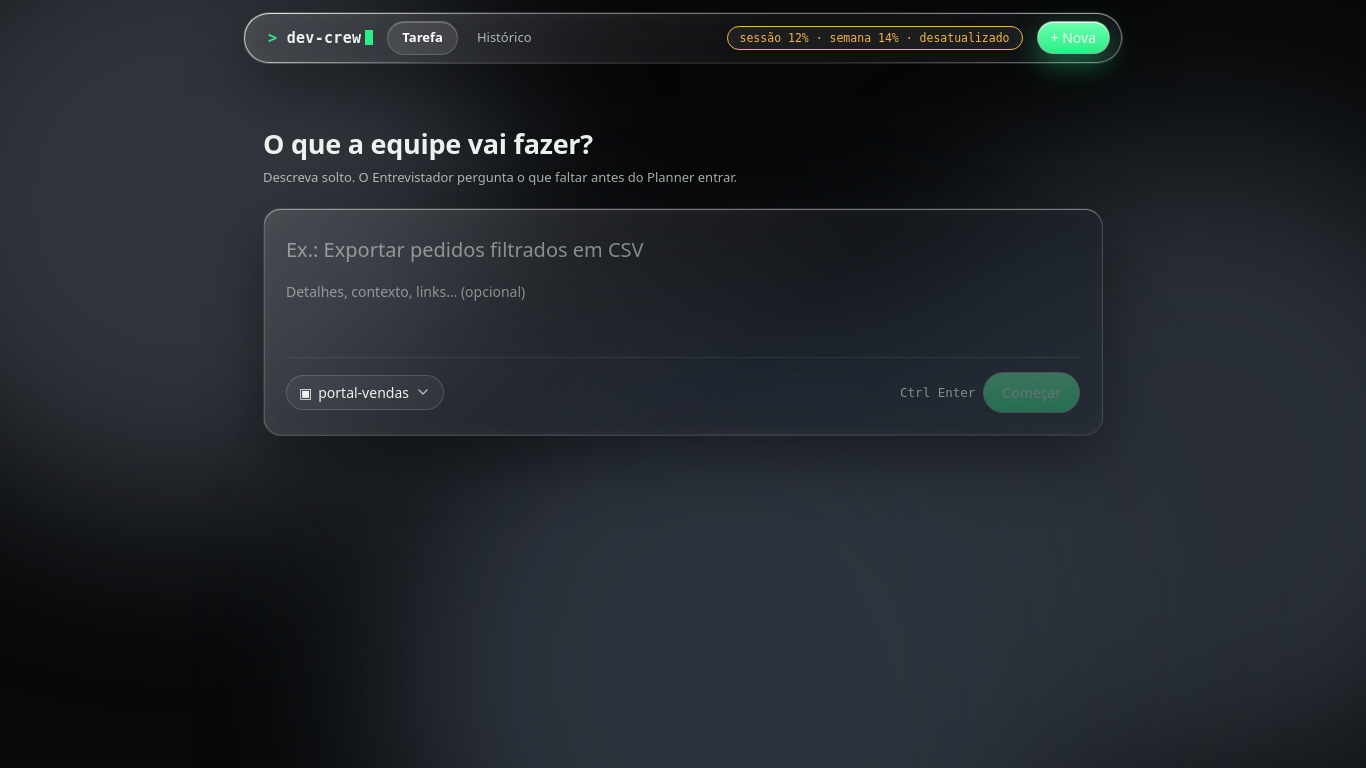
Test: App (UI + cenário mock, sem WS) › a aba "Histórico" lista as tarefas do gateway e "+ Nova" volta à nova tarefa
Click the tab "Histórico" at (504, 38), box [462,21,546,54]
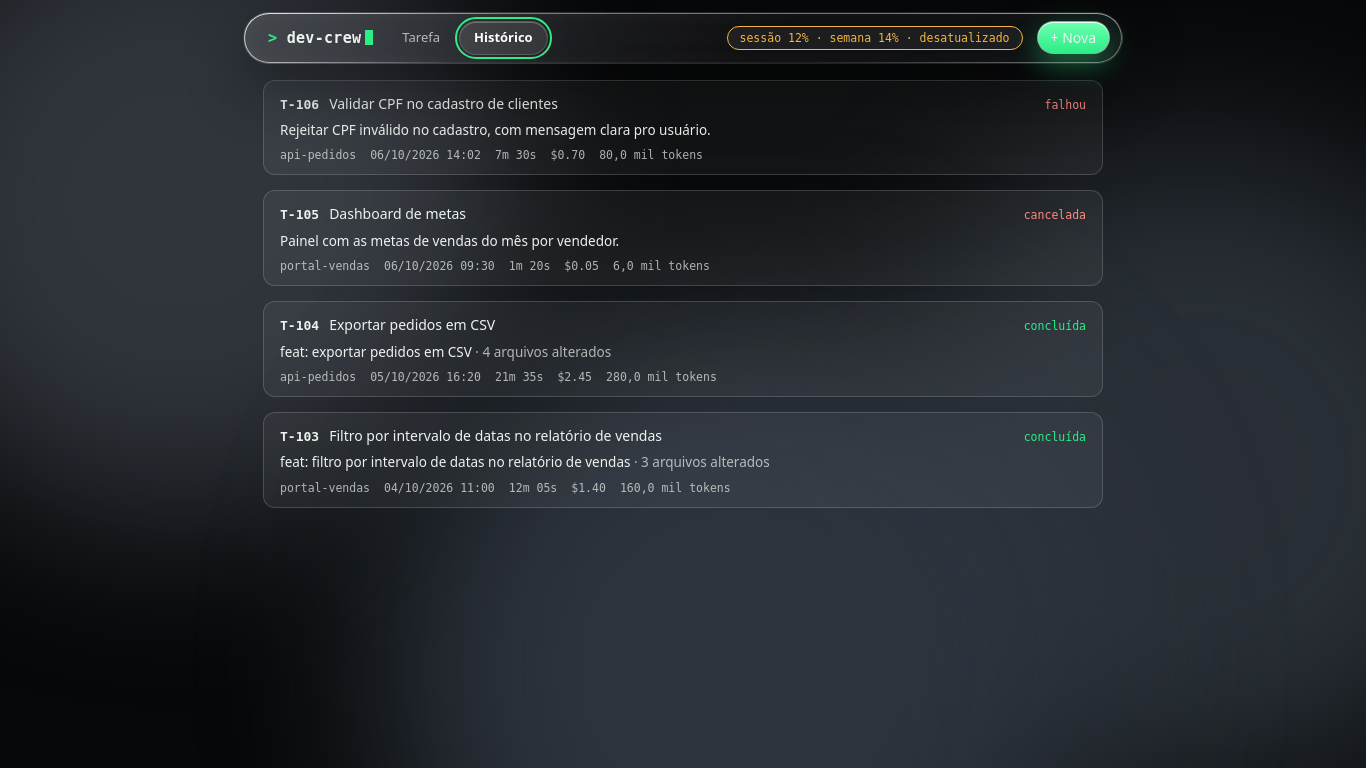
Expected: the number of list items is 4, [263,80,1103,175]; [263,190,1103,286]; [263,301,1103,397]; [263,412,1103,508]
Expected: the text "T-104" is shown, [280,316,319,336]
Expected: the field labelled "título" is gone
Click the button "+ Nova" at (1073, 38), box [1036,21,1110,54]
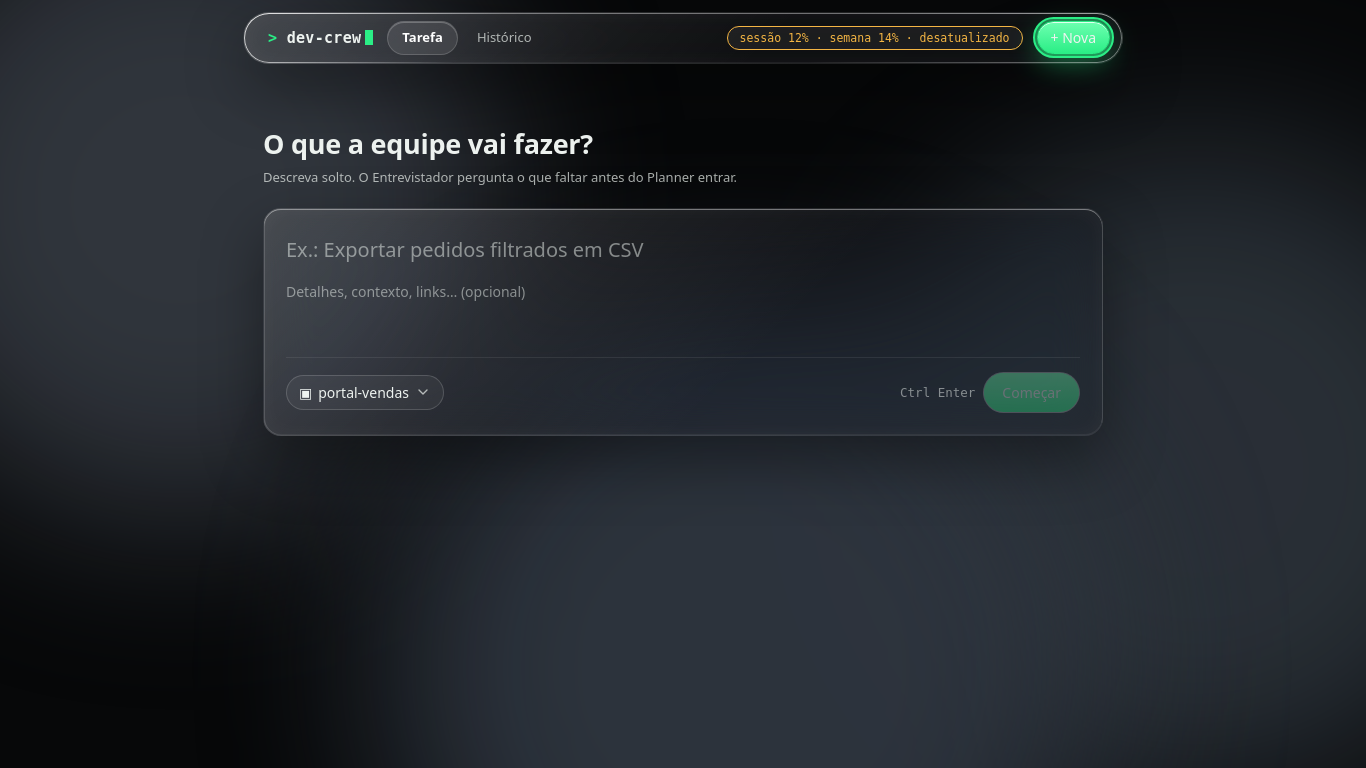
Expected: the field named "título" is shown, [286,230,1080,268]
